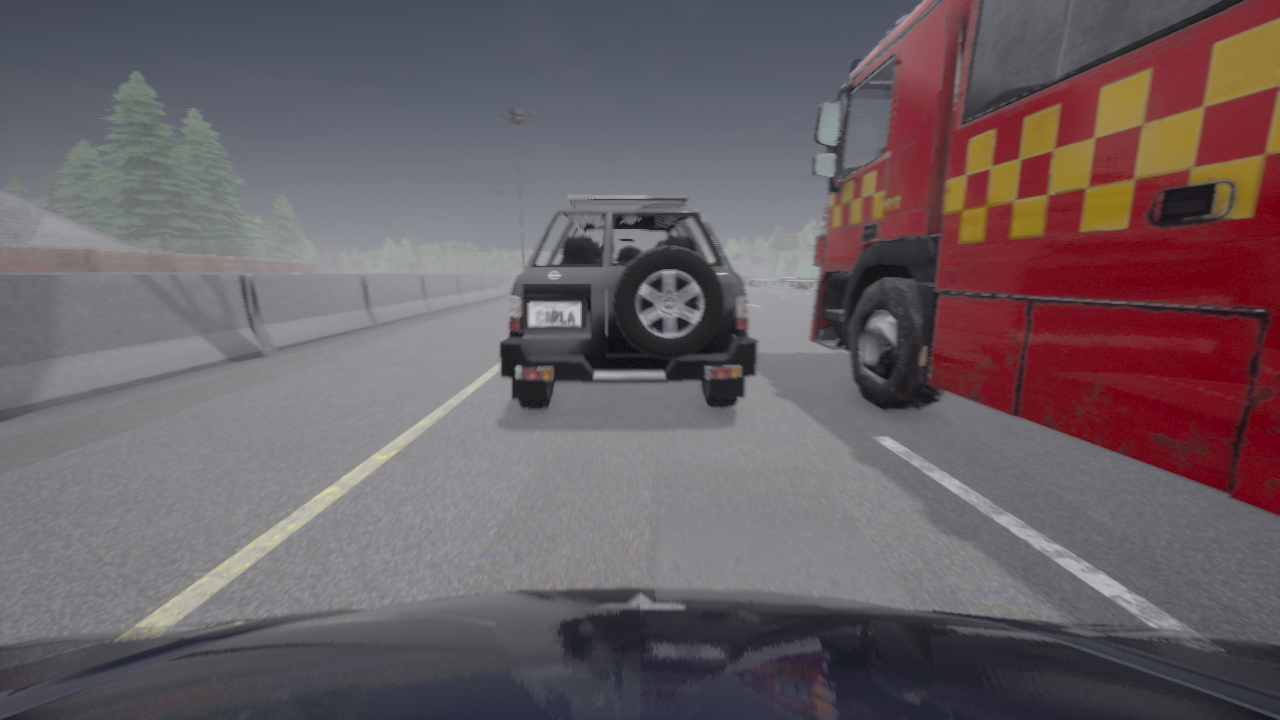cyclist: (810, 0, 1279, 516), (0, 588, 1279, 719), (499, 196, 757, 409)
